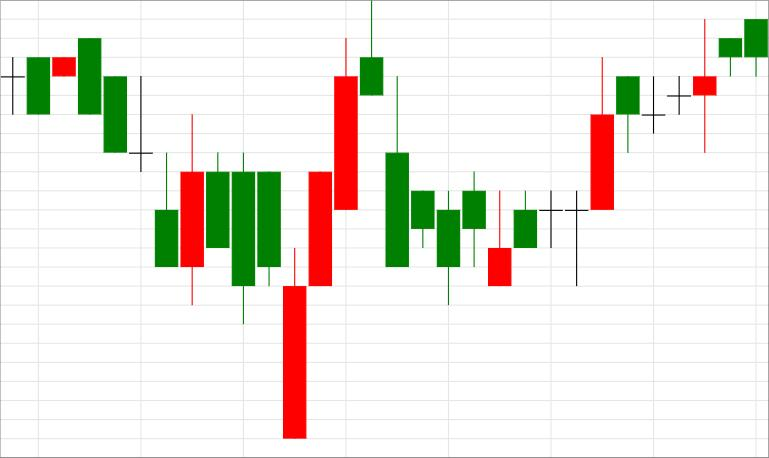bullish_engulfing_rise: (52, 39, 203, 306)
inverse_hammer_rise: (360, 0, 512, 305)
shooting_star_fall: (284, 0, 383, 439)
